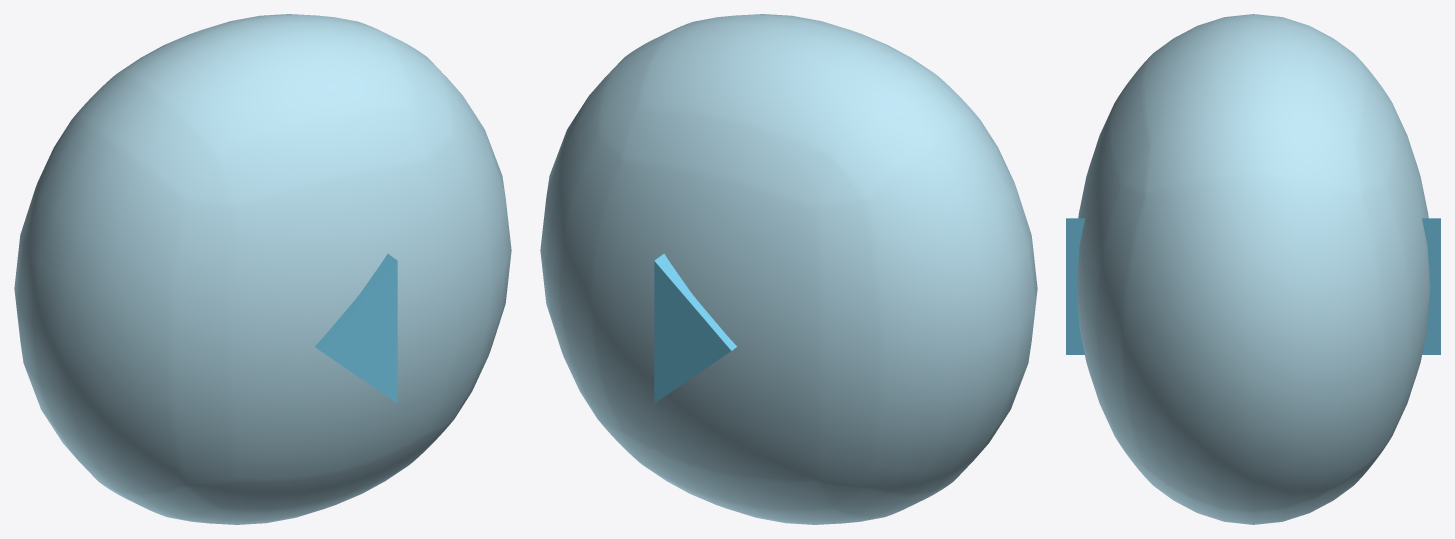
File: play_button_animation_frame17.fbx
The picture shows the model from 3 angles, left to right: view 1: azimuth 30°, elevation 25°; view 2: azimuth 150°, elevation 25°; view 3: azimuth 270°, elevation 25°; orthographic projection. The views are drawn at different scales.
Parts seen in each view (by area): view 1: Button, Triangle; view 2: Button, Triangle; view 3: Button, Triangle.
Boxes of the visible parts, x1,y1,x2,y2 form: Button: (14,14,511,524); Triangle: (315,253,397,403); Button: (540,14,1037,524); Triangle: (654,253,736,403); Button: (1076,14,1430,524); Triangle: (1066,218,1440,354).
Size of the model in its own units: 333 by 330 by 245.
